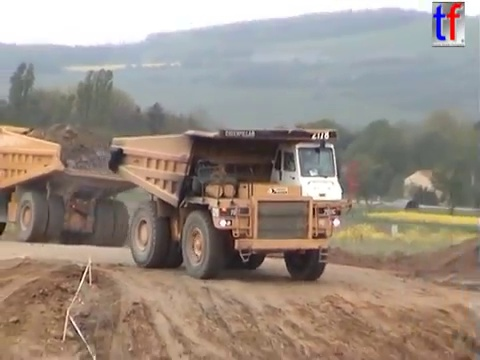truck: (105, 125, 370, 283), (1, 123, 155, 248)
